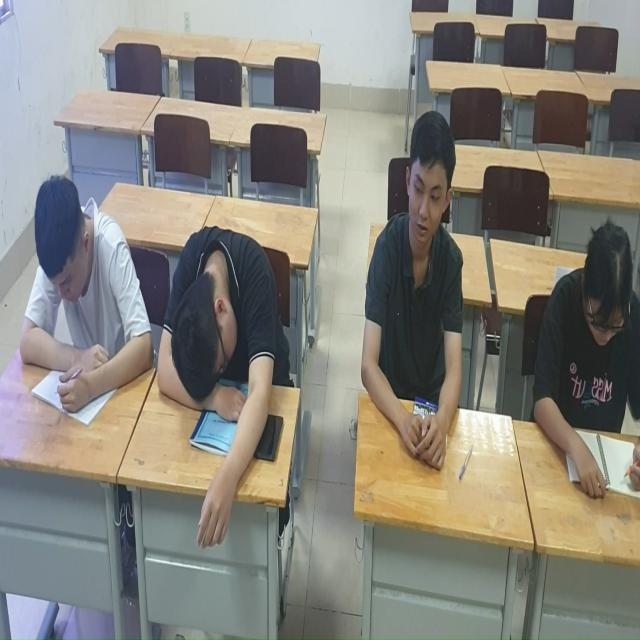read: (514, 187, 640, 485), (19, 165, 158, 429), (365, 110, 465, 475)
sleep: (155, 211, 282, 577)
